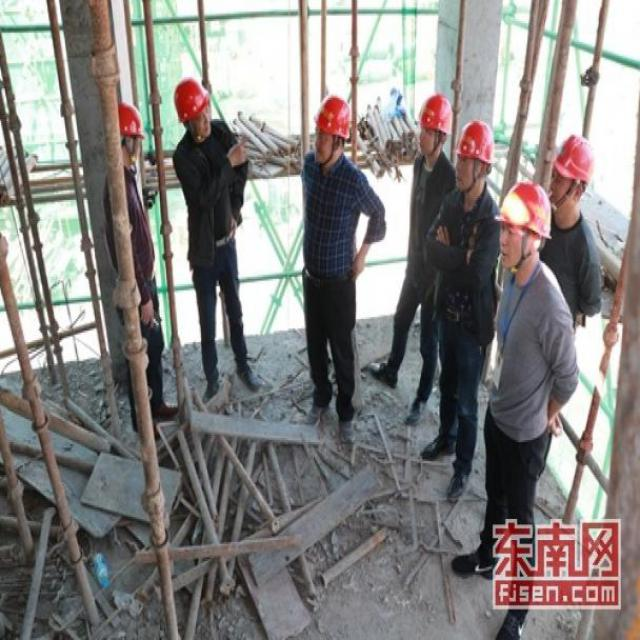helmet: (499, 165, 548, 284), (310, 81, 357, 175), (458, 113, 496, 206), (551, 122, 589, 215), (172, 67, 212, 150), (410, 85, 450, 162), (114, 100, 148, 175)
